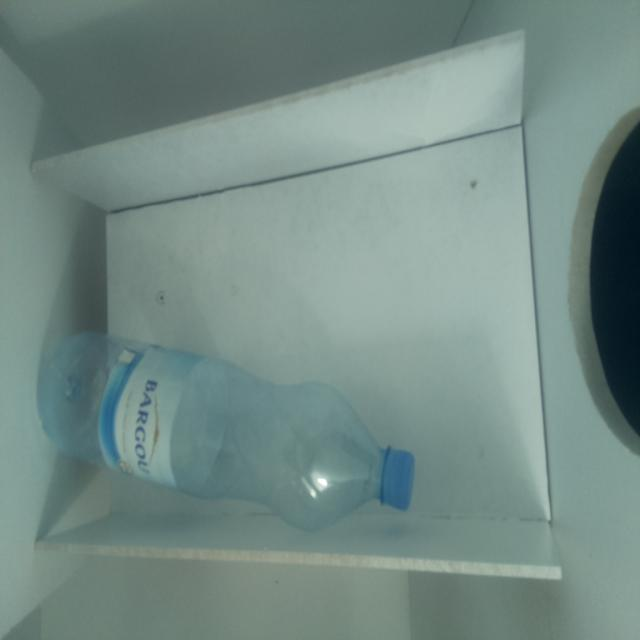bottle: (36, 330, 414, 533)
